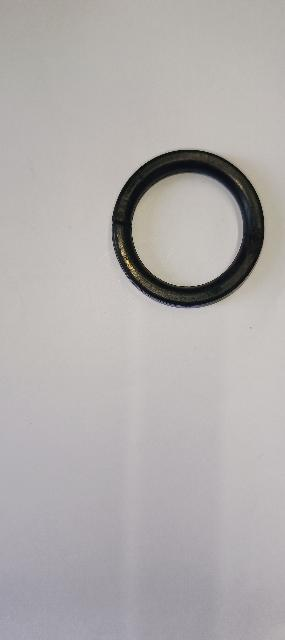4: (244, 221, 267, 267), (136, 170, 154, 191)
crack: (111, 214, 134, 234)
